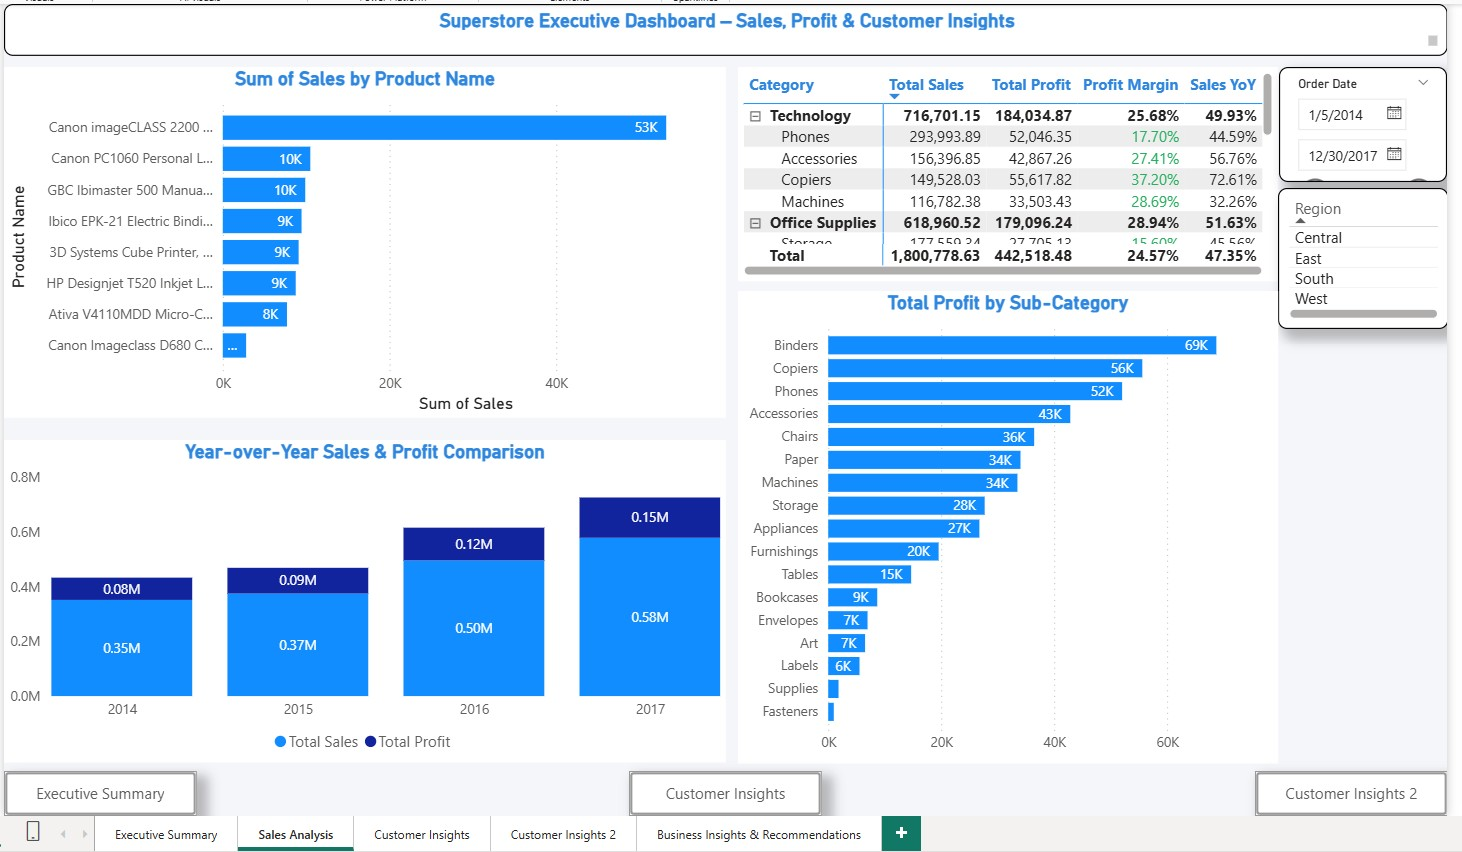

What the dashboard file says about the page in this screenshot:
{"tool":"powerbi","page":{"name":"Sales Analysis","canvas":[1280,720],"ordinal":1},"visuals":[{"type":"clusteredBarChart","fields":{"Category":["Sample - Superstore.Product Name"],"Y":["Sum(Sample - Superstore.Sales)"]},"box":[0,55.9,640.2,311.2],"z":0},{"type":"pivotTable","fields":{"Rows":["Product.Category","Product.Sub-Category"],"Values":["Calendar.Total Sales","Calendar.Total Profit","Calendar.Profit Margin","Calendar.Sales YoY"]},"box":[650.8,55.9,478.8,189.8],"z":1000},{"type":"columnChart","title":"Year-over-Year Sales & Profit Comparison","fields":{"Category":["Calendar.Year"],"Y":["Calendar.Total Sales","Calendar.Total Profit"]},"box":[0,386.6,640.2,286.4],"z":2000},{"type":"slicer","fields":{"Values":["Sample - Superstore.Order Date"]},"box":[1130.6,55.9,149.4,101.5],"z":5000},{"type":"tableEx","fields":{"Values":["Location.Region"]},"box":[1129.4,163.1,150.6,125.5],"z":6000},{"type":"textbox","title":"Superstore Executive Dashboard – Sales, Profit & Customer Insights","box":[0,0,1280.4,46.1],"z":7000},{"type":"barChart","fields":{"Category":["Sample - Superstore.Sub-Category"],"Y":["Calendar.Total Profit"]},"box":[650.8,254.5,478.8,418.5],"z":8000},{"type":"actionButton","box":[554.2,680.1,171.1,39.9],"z":8001},{"type":"actionButton","box":[1109.3,680.1,171.1,39.9],"z":8002},{"type":"actionButton","box":[0,680.1,171.1,39.9],"z":8003}]}

Visuals, with their boxes on the page's 1280x720 design canvas (x1, y1, x2, y2). These are canvas units, not pixel positions in the 1462x852 screenshot, which may show the page scaled, cropped or inside an application window:
clusteredBarChart - Sample - Superstore.Product Name x Sum(Sample - Superstore.Sales): <region>0, 56, 640, 367</region>
pivotTable - Product.Category x Product.Sub-Category: <region>651, 56, 1130, 246</region>
"Year-over-Year Sales & Profit Comparison" columnChart: <region>0, 387, 640, 673</region>
slicer - Sample - Superstore.Order Date: <region>1131, 56, 1280, 157</region>
tableEx - Location.Region: <region>1129, 163, 1280, 289</region>
"Superstore Executive Dashboard – Sales, Profit & Customer Insights" textbox: <region>0, 0, 1280, 46</region>
barChart - Sample - Superstore.Sub-Category x Calendar.Total Profit: <region>651, 254, 1130, 673</region>
actionButton: <region>554, 680, 725, 720</region>
actionButton: <region>1109, 680, 1280, 720</region>
actionButton: <region>0, 680, 171, 720</region>
